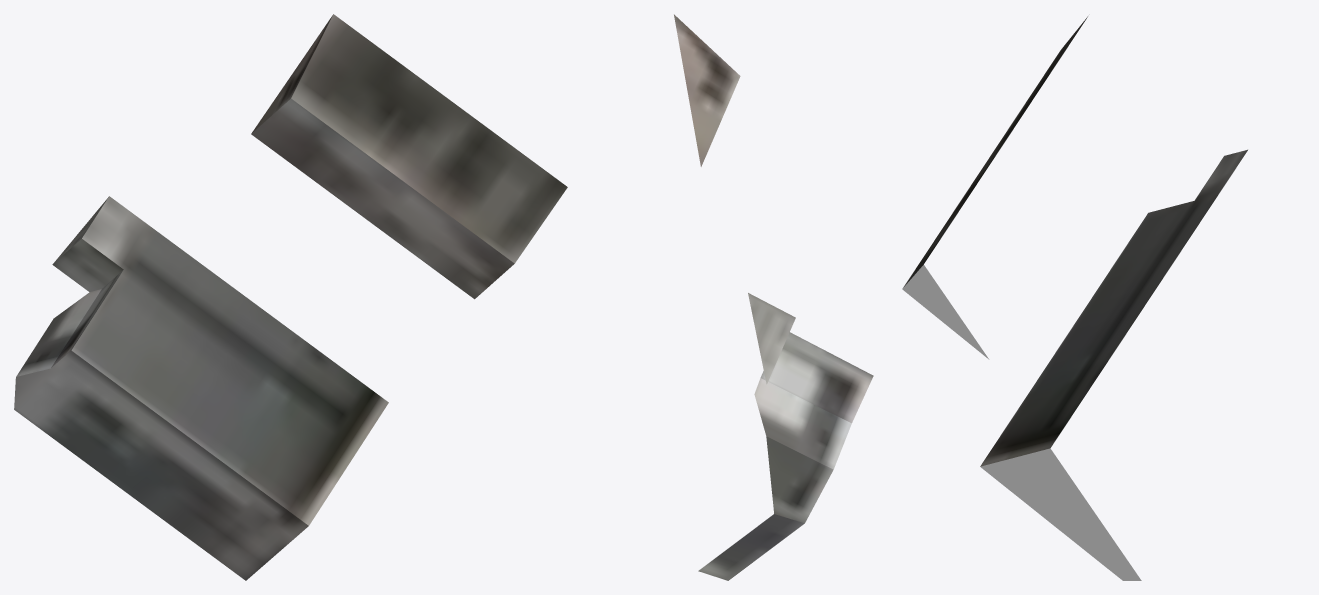
File: 39520_bldg_Building.glb
The picture shows the model from 3 angles, left to right: view 1: azimuth 30°, elevation 25°; view 2: azimuth 150°, elevation 25°; view 3: azimuth 270°, elevation 25°; orthographic projection. The views are drawn at different scales.
Size of the model in its own units: 11.49 by 15.42 by 9.3.
Materials: 2 (1 with a texture image).
